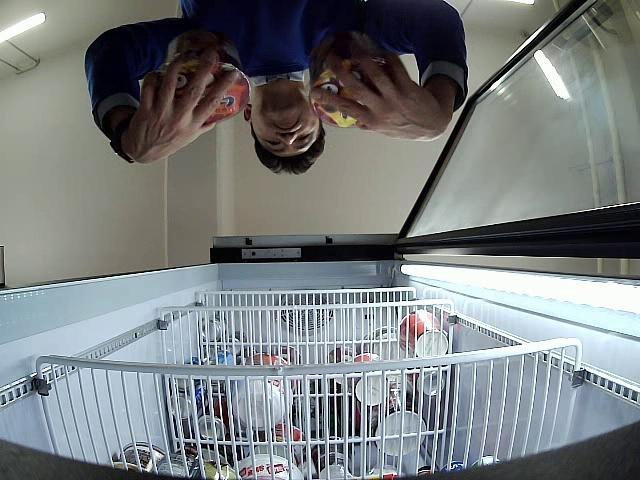05_nuguri_L: (140, 33, 250, 126), (308, 30, 392, 128)
